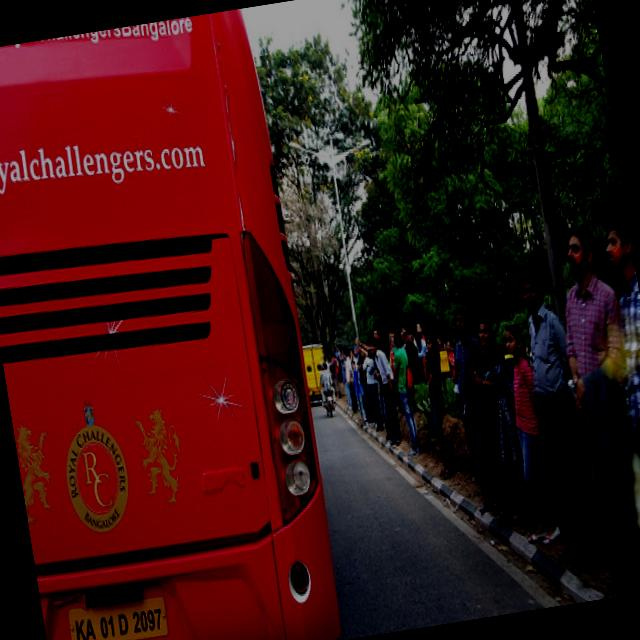Vehicle: (0, 6, 354, 640), (302, 342, 332, 406), (322, 389, 337, 418)
